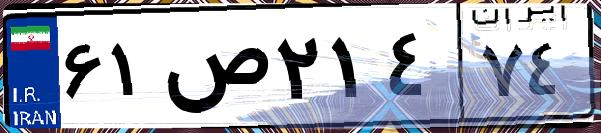1: (330, 28, 385, 110), (110, 28, 158, 98)
2: (270, 28, 330, 110)
4: (385, 28, 445, 110), (525, 38, 570, 115)
6: (57, 26, 110, 100)
7: (475, 38, 525, 113)
ص: (158, 20, 270, 120)
